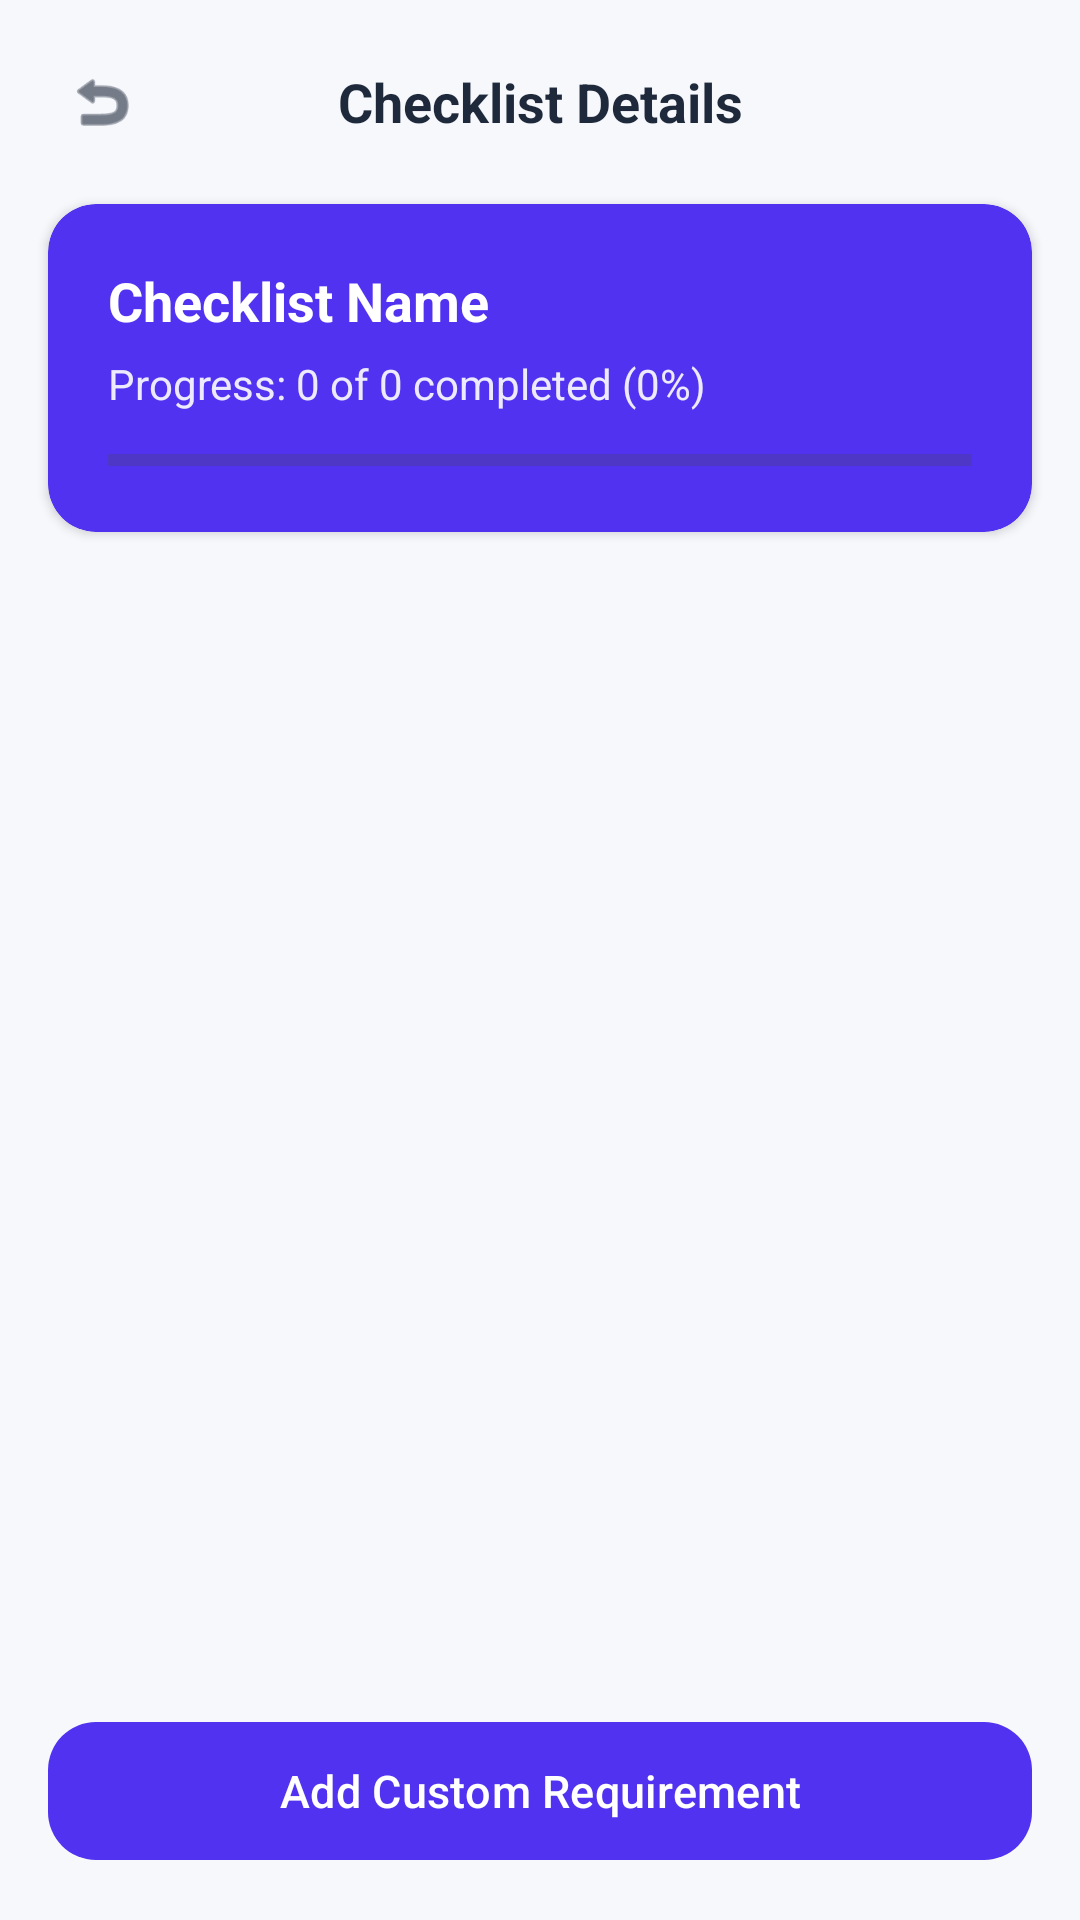

Named icons in this screenshot (1080*1920) and their bounding boxes, [x1=x1, y1=y1, x2=x2, y2=y2]:
Back: [x1=77, y1=79, x2=129, y2=126]
